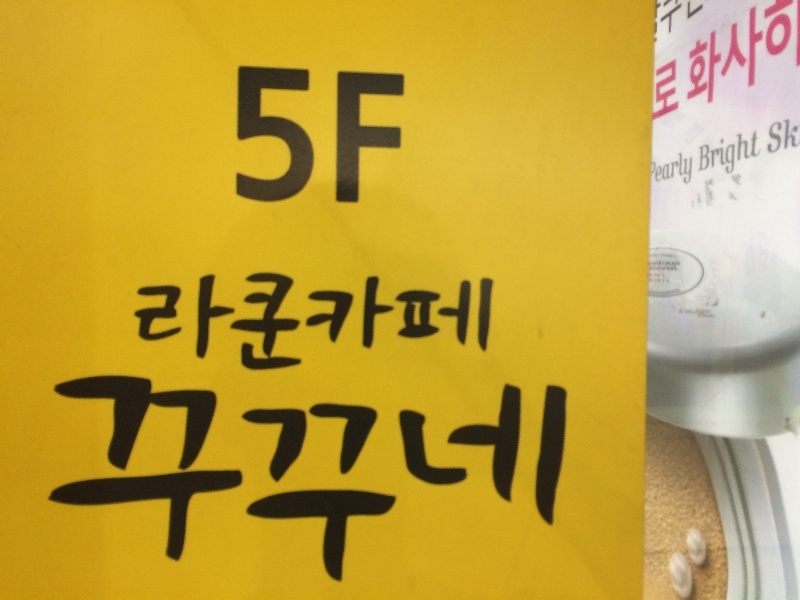text: (65, 375, 80, 592), (81, 375, 96, 592), (97, 375, 112, 592), (113, 375, 128, 592), (129, 375, 144, 592), (145, 375, 160, 592), (161, 375, 176, 592), (177, 375, 192, 592), (193, 375, 208, 592), (209, 375, 224, 592), (225, 375, 240, 592), (241, 375, 256, 592), (257, 375, 272, 592), (273, 375, 288, 592), (289, 375, 304, 592), (305, 375, 320, 592), (321, 375, 336, 592), (337, 375, 352, 592), (353, 375, 368, 592), (369, 375, 384, 592), (385, 375, 400, 592), (401, 375, 416, 592), (417, 375, 432, 592), (433, 375, 448, 592), (449, 375, 464, 592), (465, 375, 480, 592), (481, 375, 496, 592), (497, 375, 512, 592), (513, 375, 528, 592), (529, 375, 544, 592), (545, 375, 560, 592), (52, 375, 64, 592), (241, 59, 256, 207), (257, 59, 272, 207), (273, 59, 288, 207), (289, 59, 304, 207), (305, 59, 320, 207), (321, 59, 336, 207), (337, 59, 352, 207), (353, 59, 368, 207), (369, 59, 384, 207), (385, 59, 400, 207), (561, 375, 571, 592), (657, 1, 672, 126), (673, 1, 688, 126), (689, 1, 704, 126), (705, 1, 720, 126), (721, 1, 736, 126), (737, 1, 752, 126), (145, 271, 160, 376), (161, 271, 176, 376), (177, 271, 192, 376), (193, 271, 208, 376), (209, 271, 224, 376), (225, 271, 240, 376), (241, 271, 256, 376), (257, 271, 272, 376), (273, 271, 288, 376), (289, 271, 304, 376), (305, 271, 320, 376), (321, 271, 336, 376), (337, 271, 352, 376), (353, 271, 368, 376), (369, 271, 384, 376), (385, 271, 400, 376), (401, 271, 416, 376), (417, 271, 432, 376), (433, 271, 448, 376), (449, 271, 464, 376), (465, 271, 480, 376), (481, 271, 496, 376), (753, 1, 764, 126), (401, 59, 409, 207), (136, 271, 144, 376), (705, 127, 720, 182), (721, 127, 736, 182), (737, 127, 752, 182), (769, 117, 784, 157), (785, 117, 800, 157), (657, 150, 672, 186), (673, 150, 688, 186), (753, 127, 762, 182), (237, 59, 240, 207), (657, 260, 672, 284), (698, 127, 704, 182), (650, 150, 656, 186), (673, 260, 682, 284), (648, 260, 656, 284), (689, 150, 694, 186), (655, 1, 656, 126)
